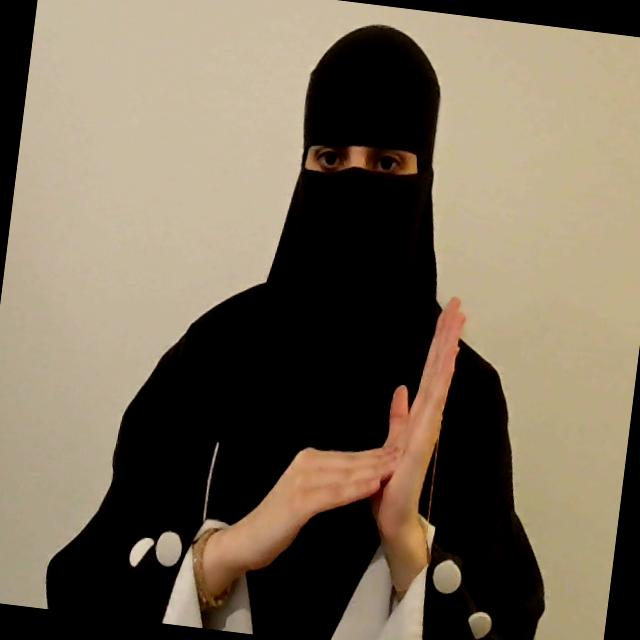complaint: (224, 270, 470, 602)
